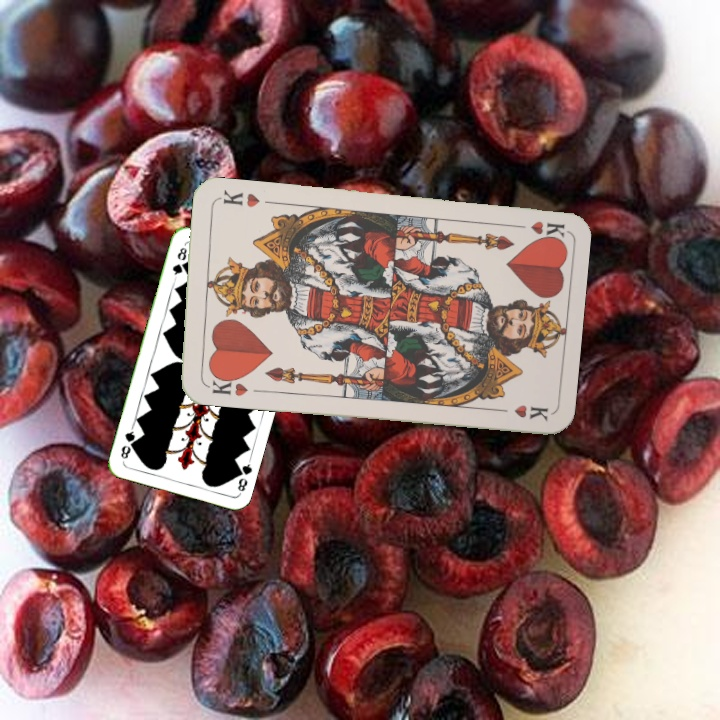G8: (232, 456, 255, 496), (168, 243, 189, 281)
HK: (506, 217, 566, 242), (200, 370, 251, 399)
